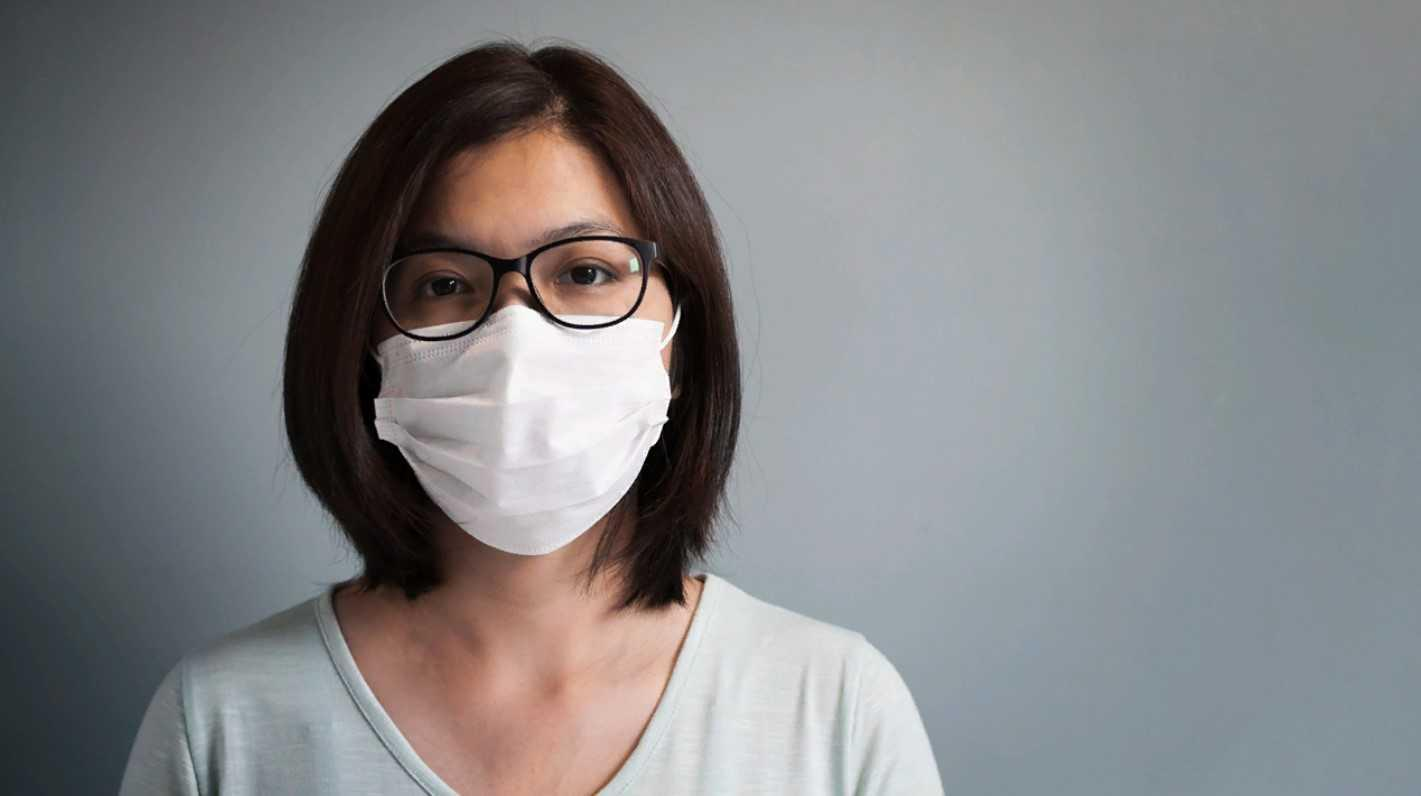mask: (364, 300, 684, 558)
